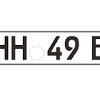4: (47, 34, 62, 61)
9: (64, 36, 80, 60)
H: (11, 34, 26, 61), (0, 34, 9, 62)
